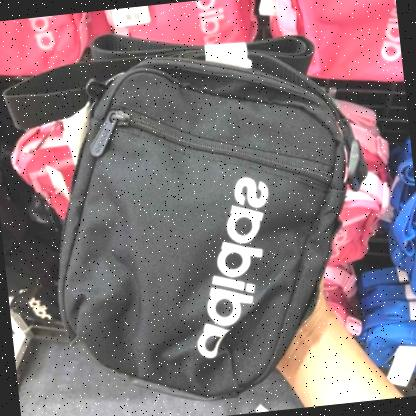bag: (21, 8, 386, 416)
